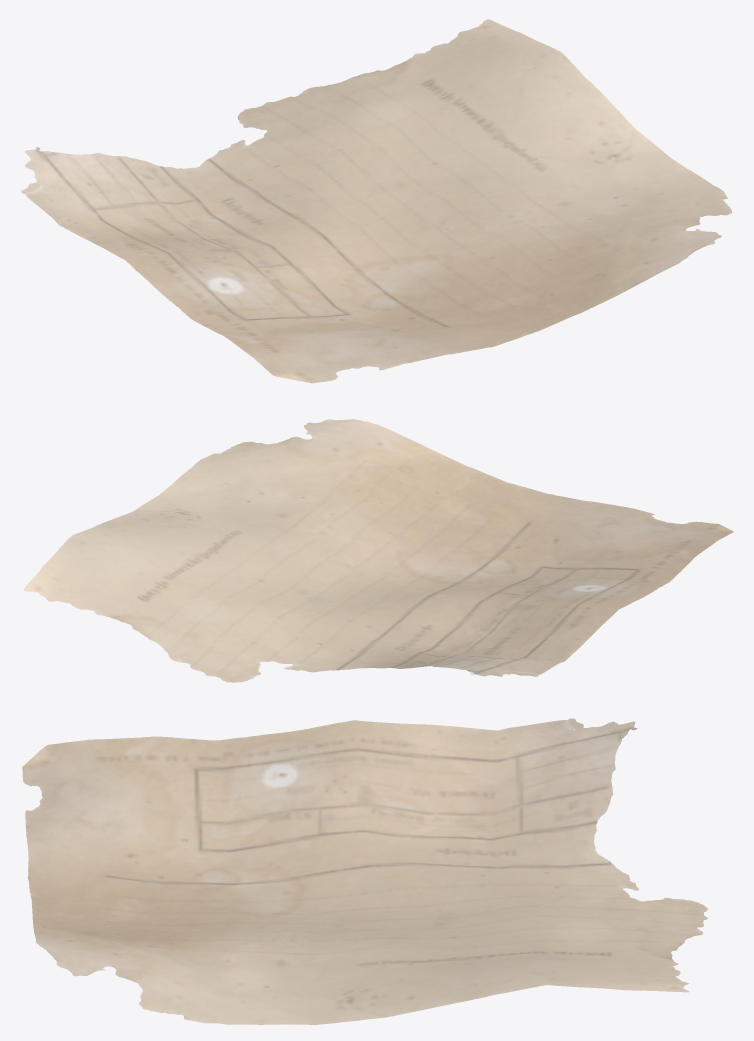
File: SM_Paper_012.fbx
3 views of the same model, one above another, from view 1: azimuth 30°, elevation 25°; view 2: azimuth 150°, elevation 25°; view 3: azimuth 270°, elevation 25° (orthographic). The views are drawn at different scales.
Parts seen in each view (by area): view 1: SM_Paper_012; view 2: SM_Paper_012; view 3: SM_Paper_012.
Part boxes in pixels (x1,y1,x2,y2): SM_Paper_012: (21, 19, 732, 383); SM_Paper_012: (23, 419, 733, 682); SM_Paper_012: (22, 718, 707, 1024).
Bounding box in the file's own units: 38.54 × 39.64 × 4.32.
1 material, 1 textured.
